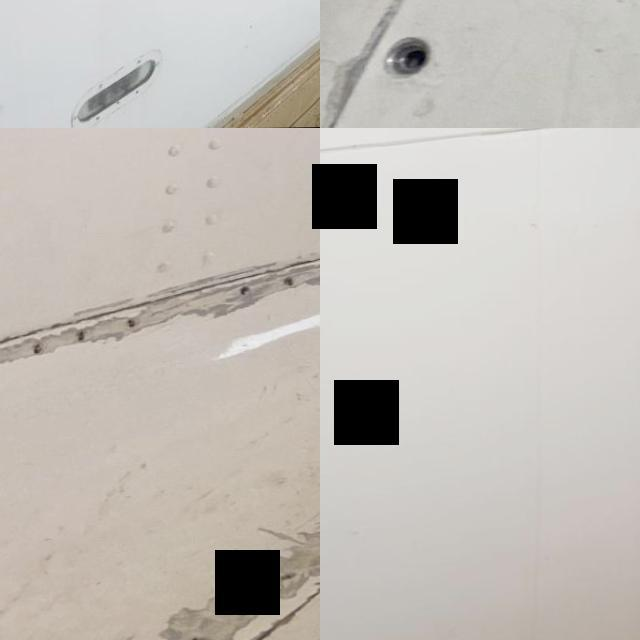Missing_Fastener: (376, 36, 429, 90), (120, 318, 140, 330), (280, 277, 296, 289), (238, 288, 253, 298)
